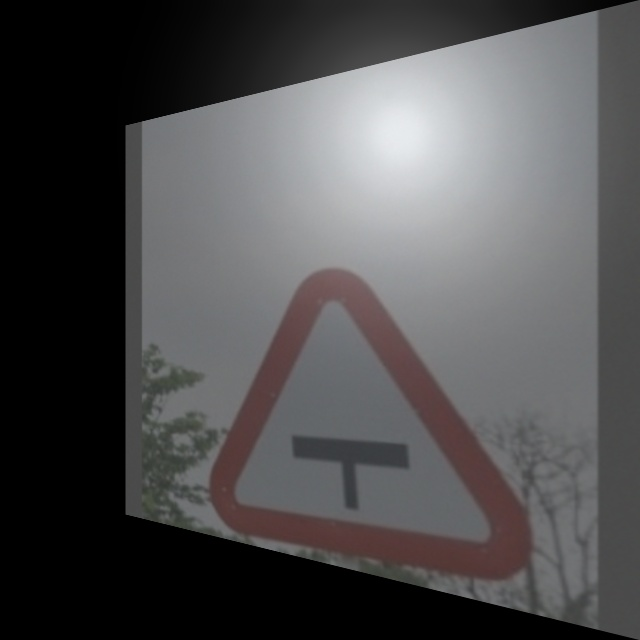T_Intersection: (214, 259, 531, 586)
